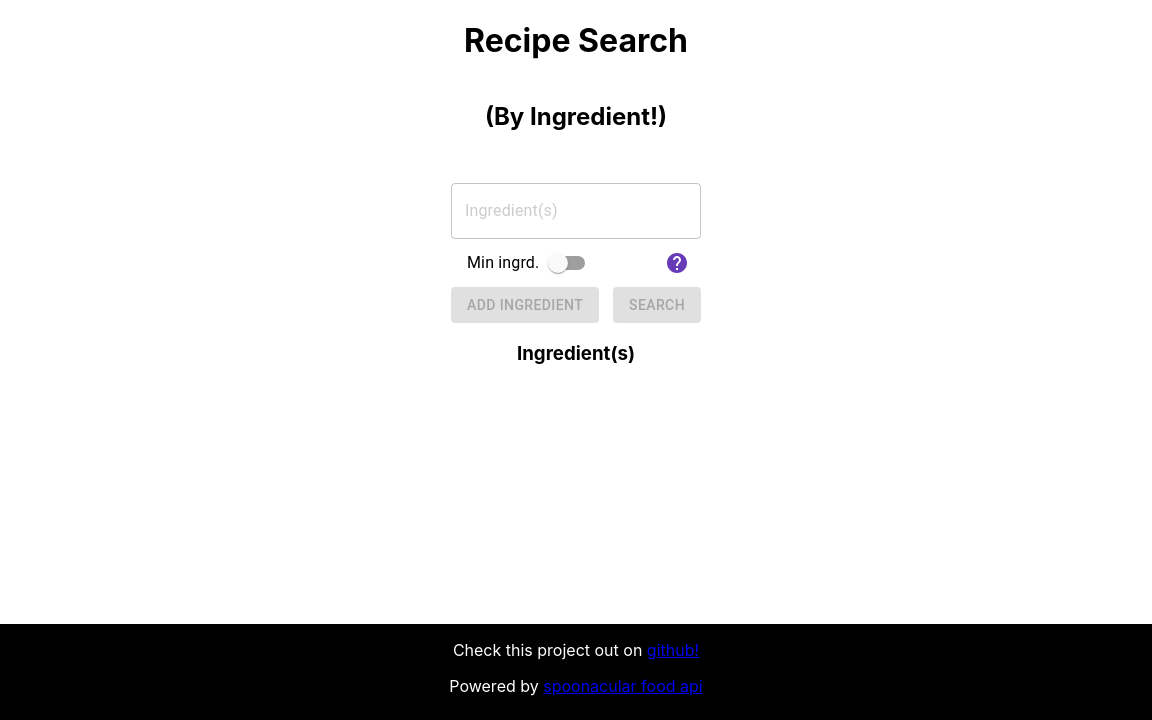
Test: <App › removes ingredients from a list
In the field: x=576, y=211 [451, 183, 701, 239], type "new ingredient"
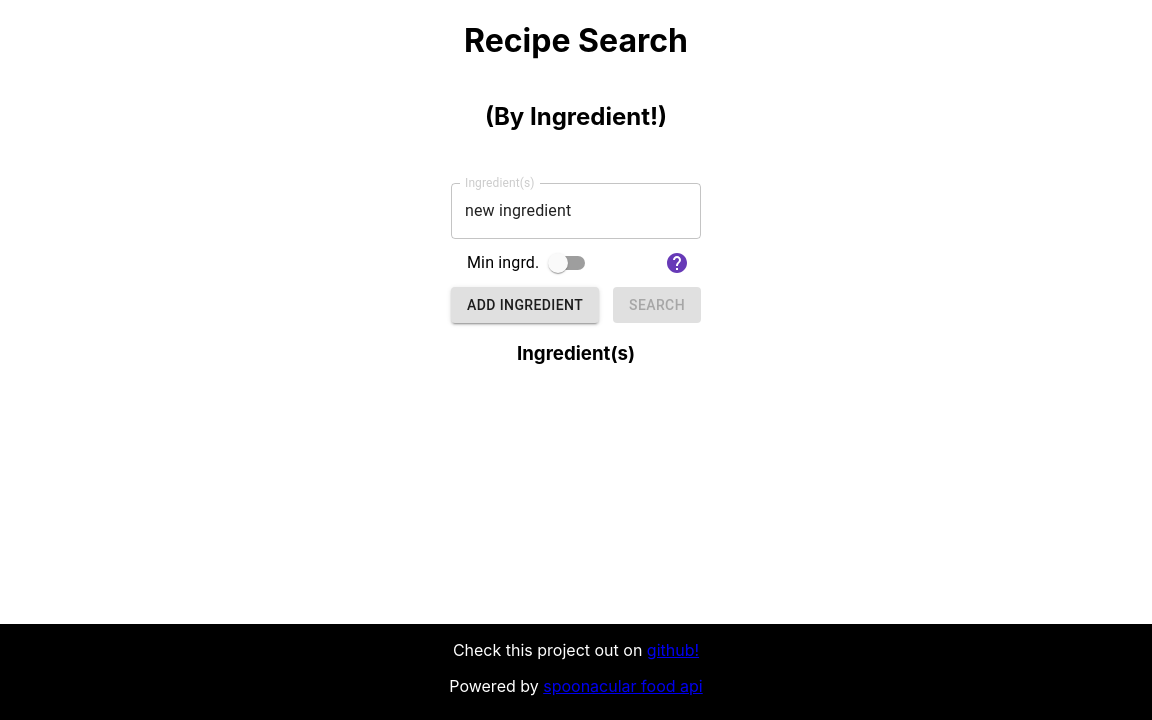
Click the button "Add Ingredient": x=525, y=305 [451, 287, 599, 323]
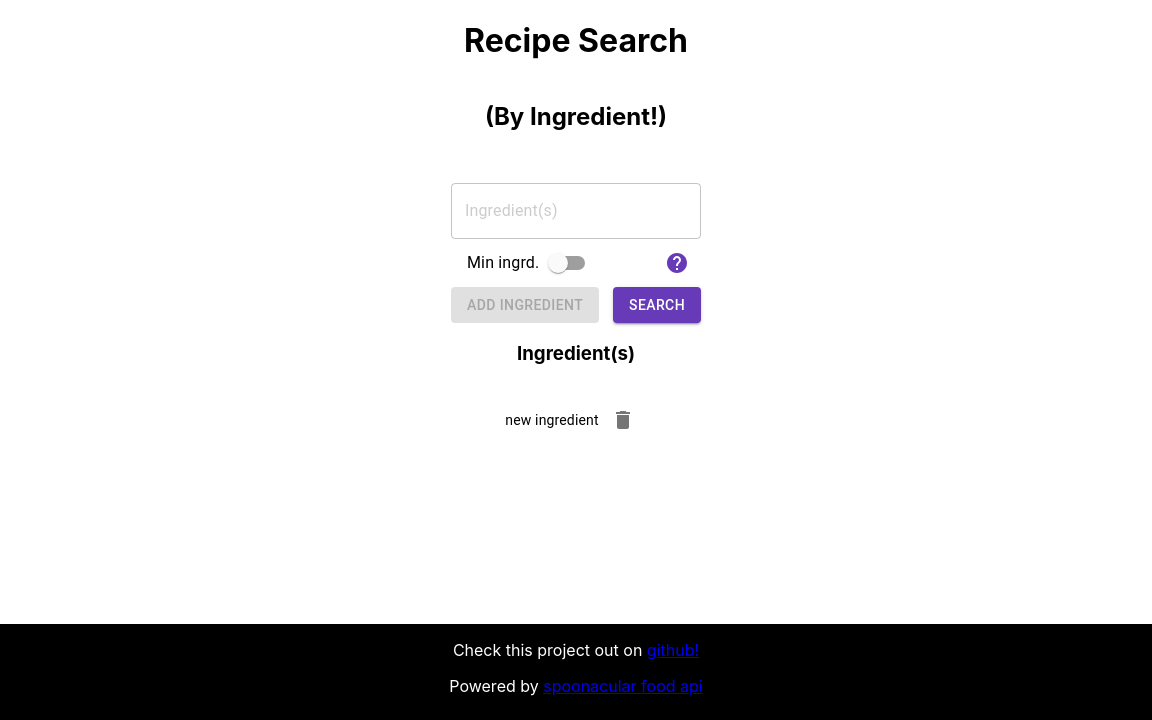
In the field: x=576, y=211 [451, 183, 701, 239], type "new ingredient 2"
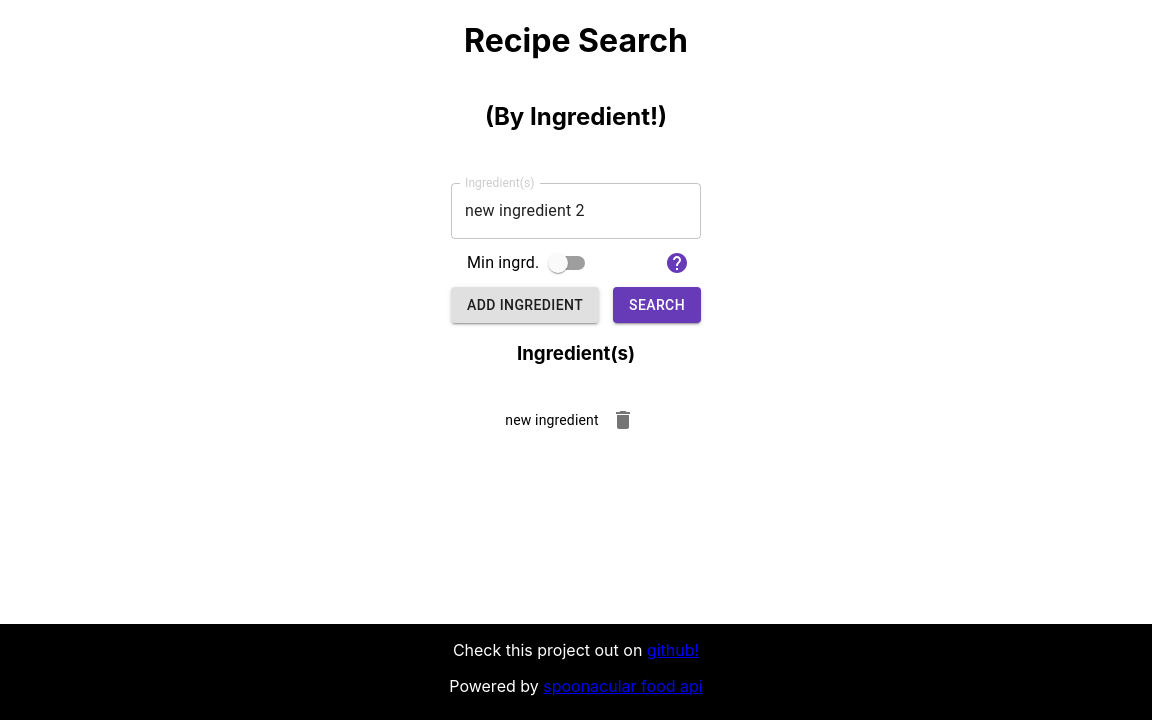
Click the button "Add Ingredient": x=525, y=305 [451, 287, 599, 323]
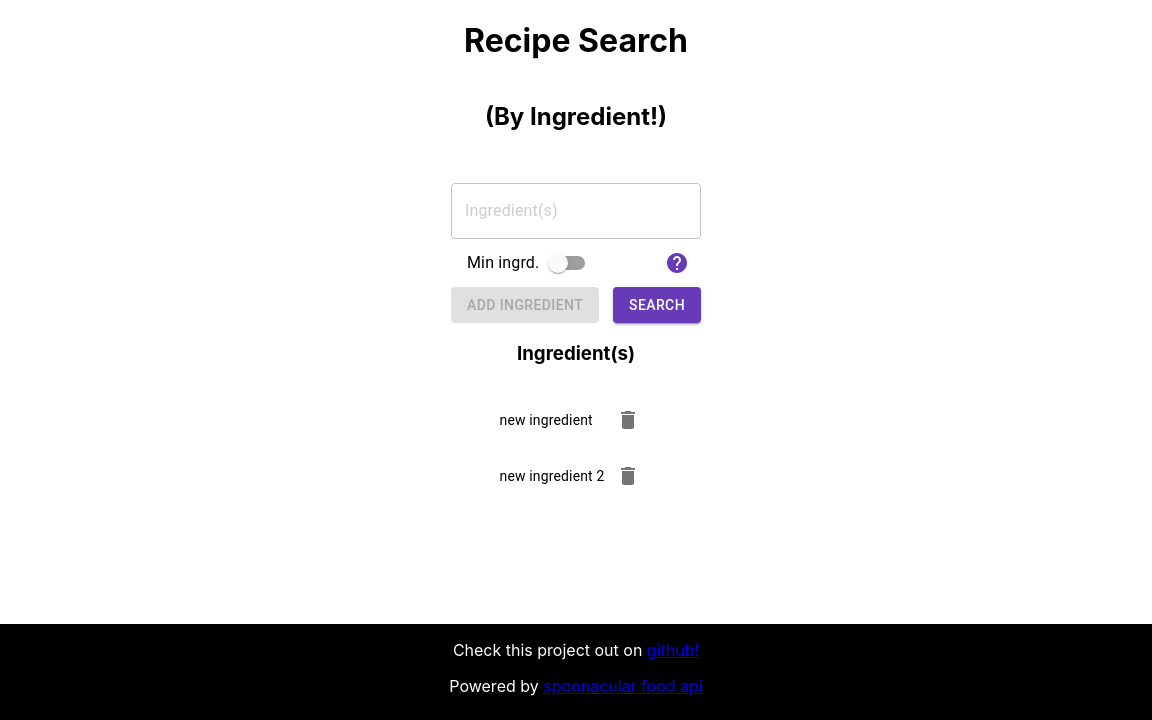
Result: the number of list items is 2 at [500, 396, 652, 444]; [500, 452, 652, 500]
Click the button named "delete" next to "new ingredient 2": x=628, y=476 [604, 452, 652, 500]
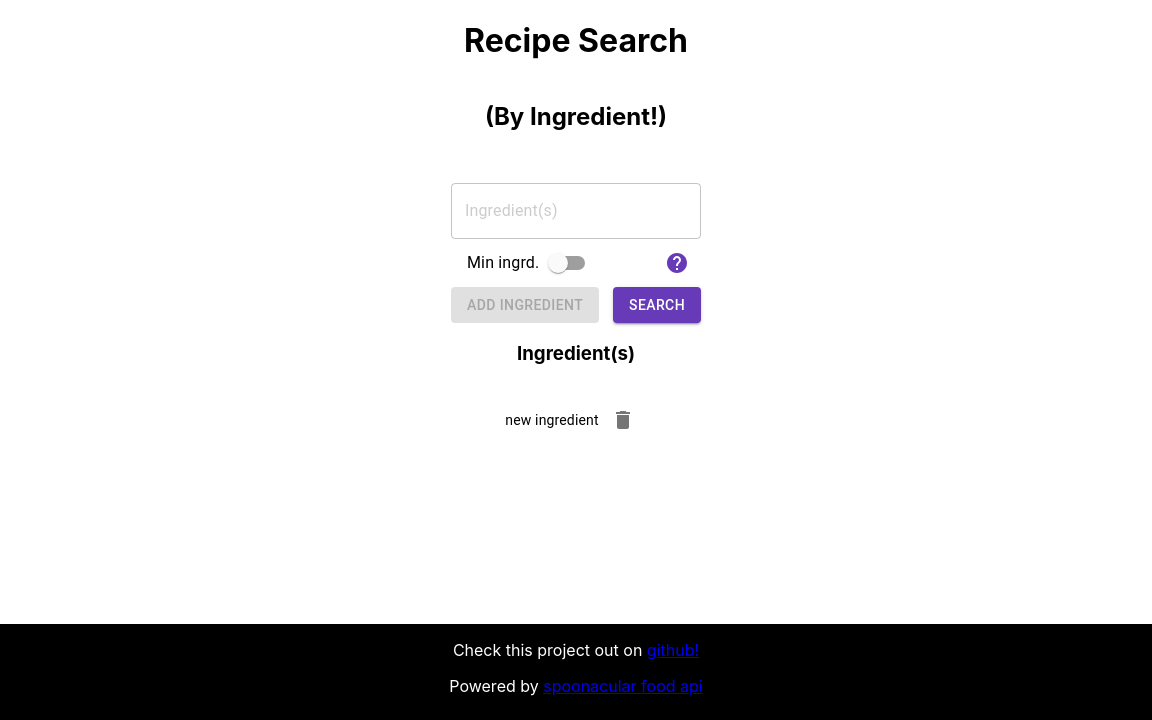
Result: the number of list items is 1 at [505, 396, 647, 444]
